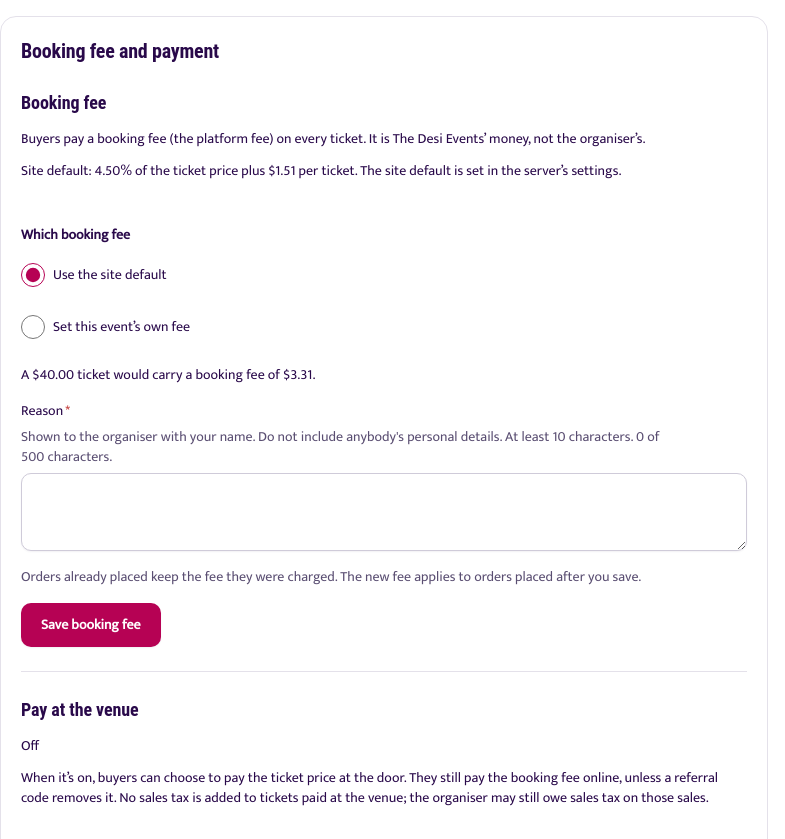
Test: the booking fee › says which fee is in force and gives a live example for the cheapest paid ticket
This screenshot has width=785, height=839.
Expected: the heading "Booking fee and payment" is shown, [21,39,219,63]
Expected: the text "Site default: 4.50% of the ticket price plus $1.51 per ticket. The site default is set in the server’s settings." is shown, [21,159,621,182]
Click the radio button labelled "Set this event’s own fee" at (33, 327), box [21,315,45,339]
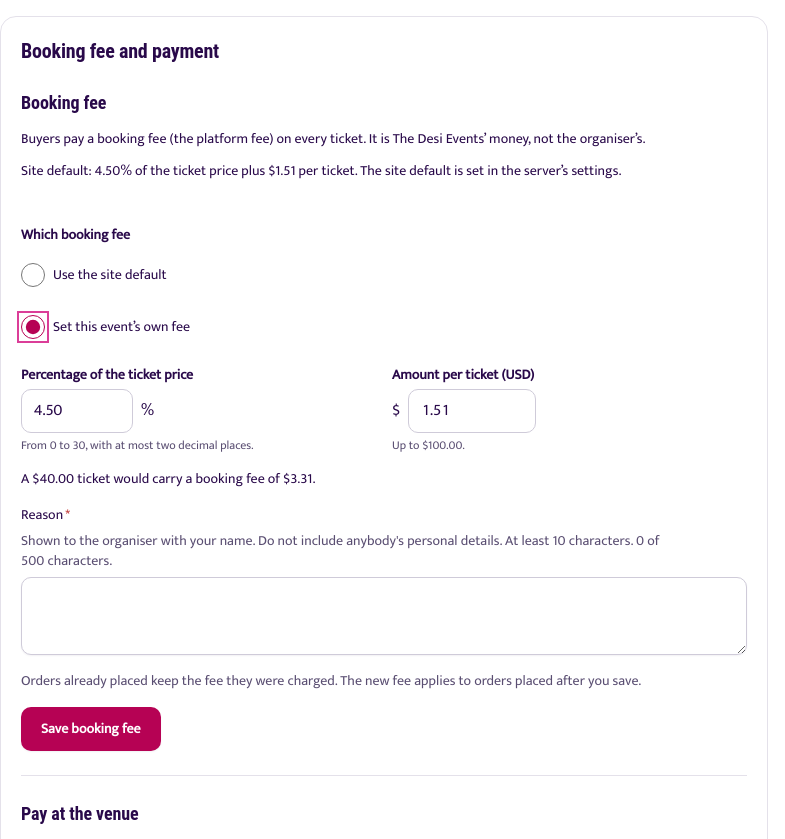
Replace the text in the field labelled "Percentage of the ticket price" with "3" at (77, 411), box [21,389,133,433]
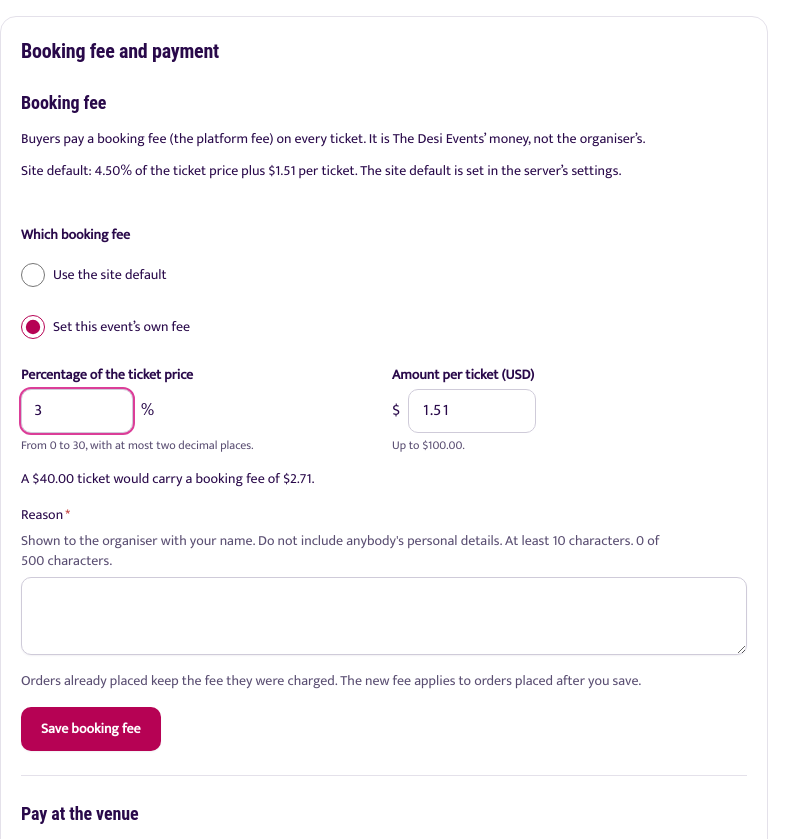
Replace the text in the field labelled "Amount per ticket (USD)" with "1.00" at (472, 411), box [408,389,536,433]
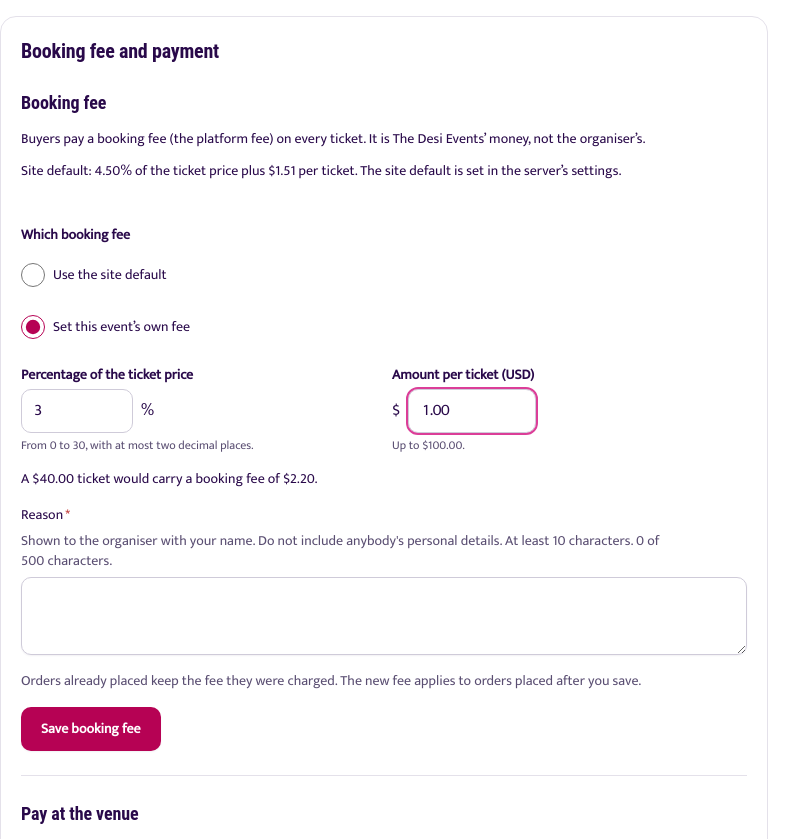
Expected: the text with test id "fee-example" reads "A $40.00 ticket would carry a booking fee of $2.20.", [21,467,318,490]
